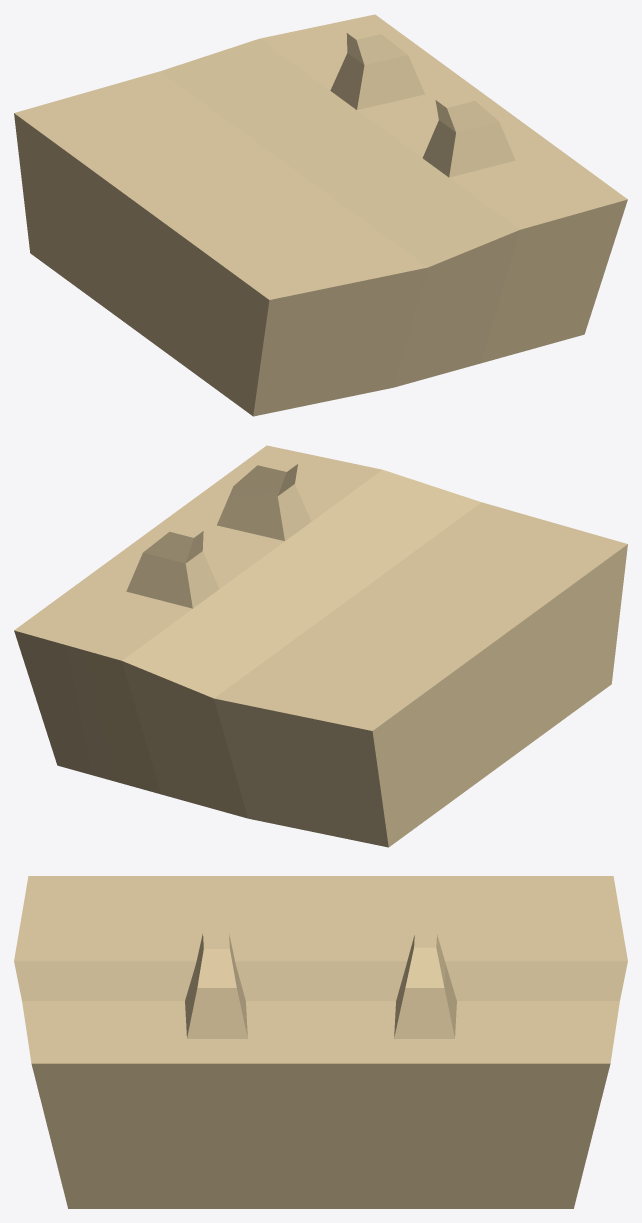
File: GPE_SnakeMouthBottom.fbx
3 renders of one model, top to bottom at view 1: azimuth 30°, elevation 25°; view 2: azimuth 150°, elevation 25°; view 3: azimuth 270°, elevation 25°, orthographic. The views are drawn at different scales.
Visible parts, largest first — view 1: Cube.251; view 2: Cube.251; view 3: Cube.251.
Boxes of the visible parts, x1=… form: Cube.251: x1=14, y1=14, x2=627, y2=416; Cube.251: x1=14, y1=445, x2=627, y2=847; Cube.251: x1=14, y1=876, x2=627, y2=1208.
Size of the model in its own units: 272 by 146 by 350.
